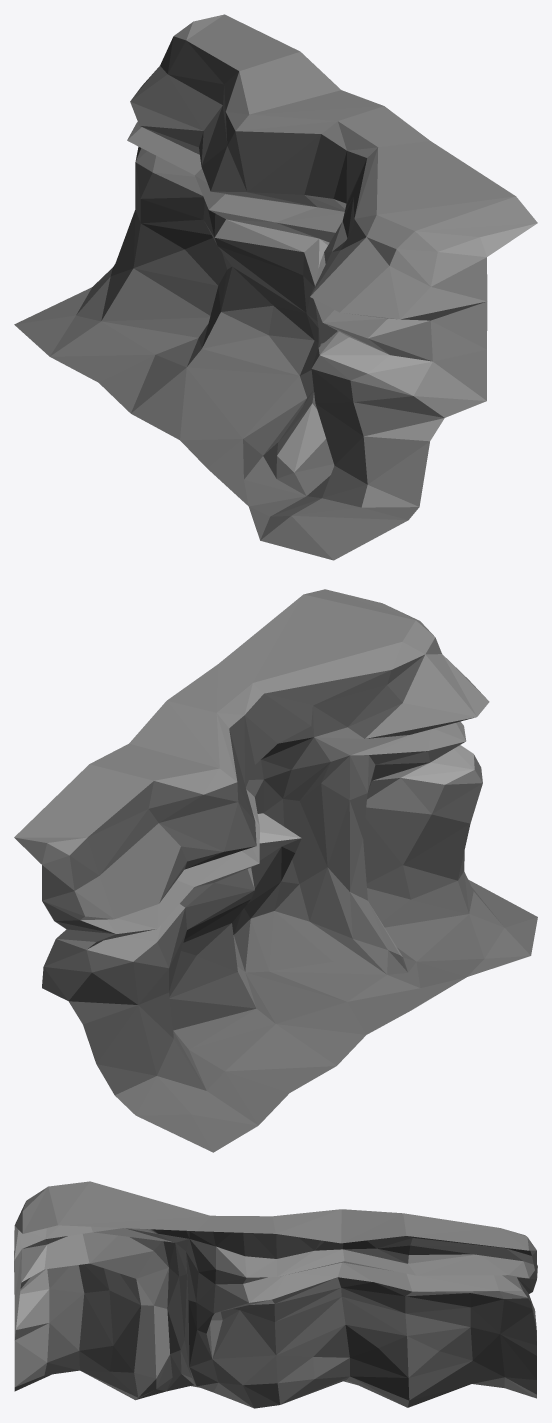
The model's file is rock_4.fbx.
The picture shows the model from 3 angles, top to bottom: view 1: azimuth 30°, elevation 25°; view 2: azimuth 150°, elevation 25°; view 3: azimuth 270°, elevation 25°; orthographic projection. The views are drawn at different scales.
Visible parts, largest first — view 1: Object.016; view 2: Object.016; view 3: Object.016.
Part boxes in pixels (x1,y1,x2,y2): Object.016: (14,14,537,560); Object.016: (14,589,537,1152); Object.016: (14,1181,537,1408).
Size of the model in its own units: 785 by 905 by 1794.
